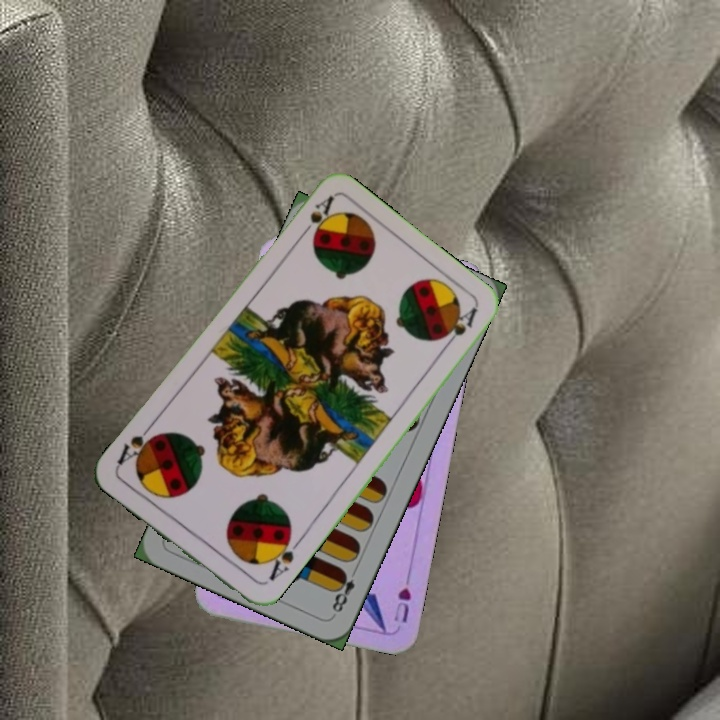E8: (328, 563, 361, 615)
HU: (389, 570, 414, 625)
SA: (263, 530, 303, 584), (294, 192, 336, 243)
